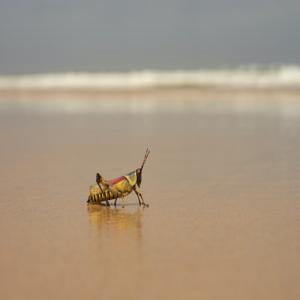locust: (92, 131, 157, 218)
